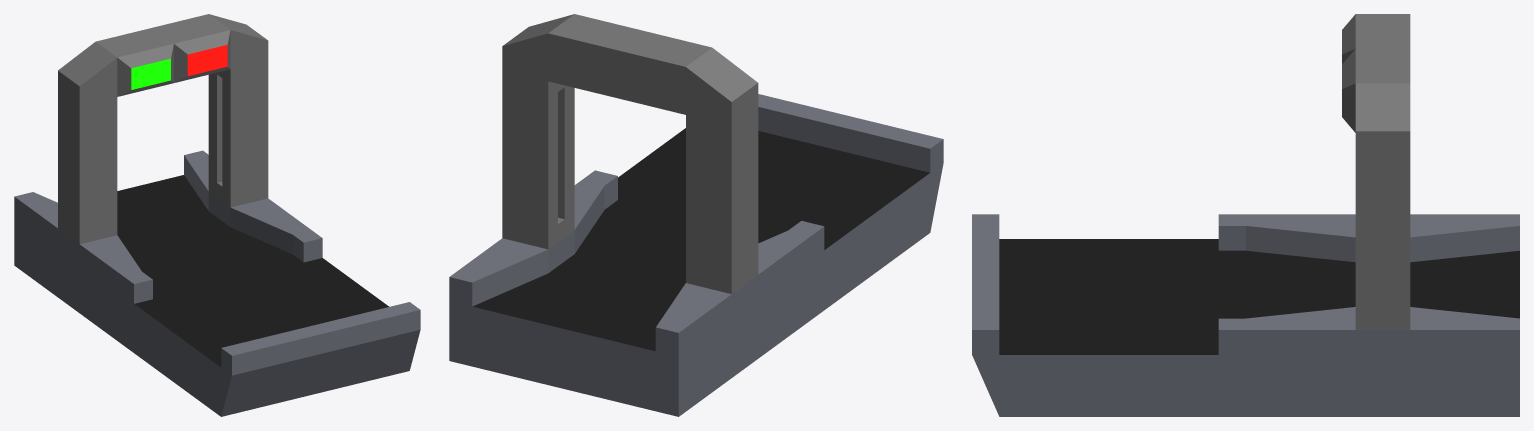
Rendered from entrance.glb.
The picture shows the model from 3 angles, left to right: view 1: azimuth 30°, elevation 25°; view 2: azimuth 150°, elevation 25°; view 3: azimuth 270°, elevation 25°; orthographic projection. The views are drawn at different scales.
Parts seen in each view (by area): view 1: PlatformMesh, EntranceMesh; view 2: PlatformMesh, EntranceMesh; view 3: PlatformMesh, EntranceMesh.
Part boxes in pixels (x1,y1,x2,y2): PlatformMesh: (14, 150, 420, 416); EntranceMesh: (58, 14, 268, 244); PlatformMesh: (449, 94, 943, 416); EntranceMesh: (502, 14, 758, 293); PlatformMesh: (972, 214, 1519, 416); EntranceMesh: (1342, 14, 1410, 329).
Bounding box in the file's own units: 2 × 2.5 × 4.
